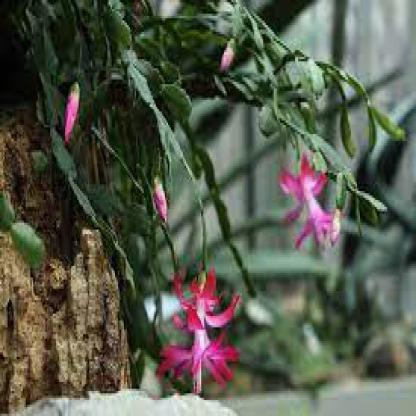Aglonema: (35, 69, 416, 370)
